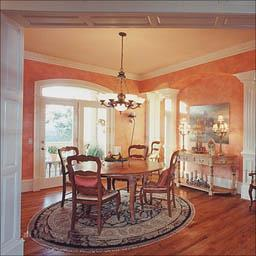Puerta: (38, 101, 73, 187), (78, 107, 109, 154)
